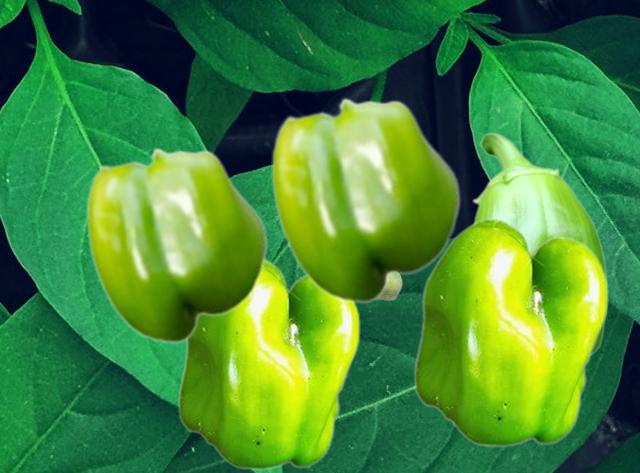bell_pepper: (413, 217, 607, 446), (271, 97, 460, 303), (177, 258, 359, 469), (86, 147, 267, 343), (471, 132, 607, 354), (380, 275, 401, 299)
